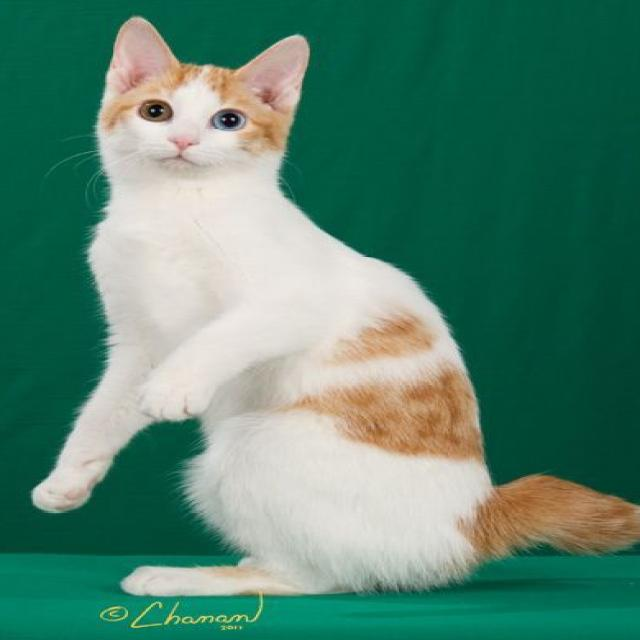American Bobtail: (19, 11, 640, 603)
